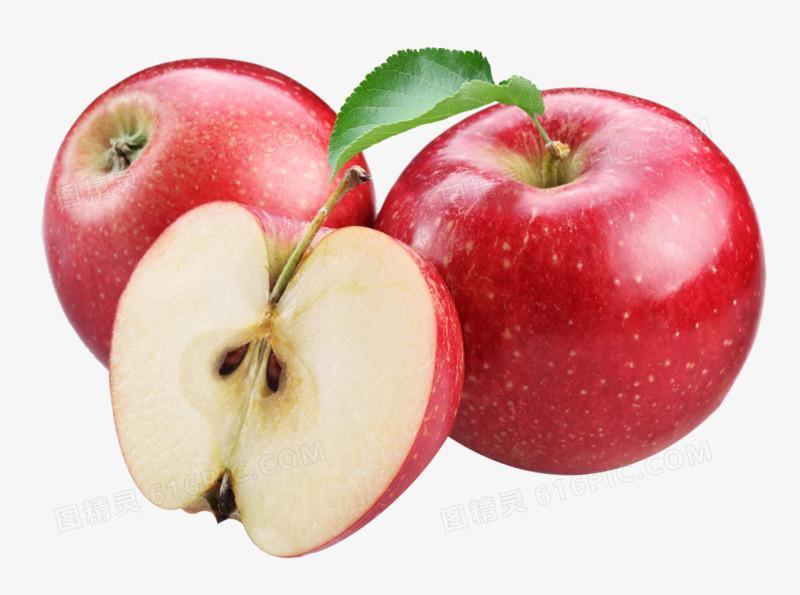apple: (368, 86, 765, 479), (45, 54, 374, 369)
